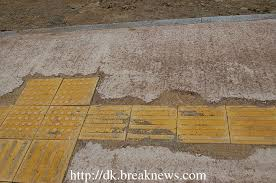guide_blocks: (1, 105, 276, 144), (1, 139, 69, 183), (15, 78, 96, 105)
